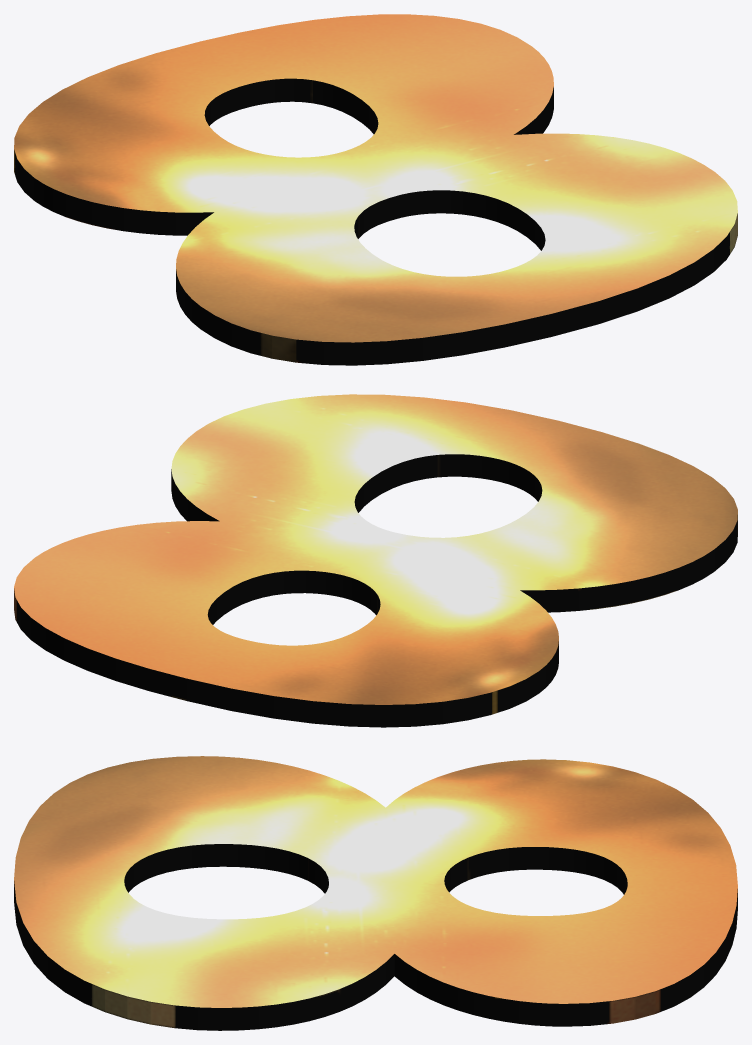
File: Number8.fbx
The picture shows the model from 3 angles, top to bottom: view 1: azimuth 30°, elevation 25°; view 2: azimuth 150°, elevation 25°; view 3: azimuth 270°, elevation 25°; orthographic projection. The views are drawn at different scales.
Parts seen in each view (by area): view 1: 8; view 2: 8; view 3: 8.
Part boxes in pixels (x1=…): 8: x1=14, y1=14, x2=737, y2=365; 8: x1=14, y1=394, x2=737, y2=727; 8: x1=14, y1=756, x2=737, y2=1030.
Size of the model in its own units: 1.34 by 0.0566 by 1.63.
Materials: 1 (1 with a texture image).
